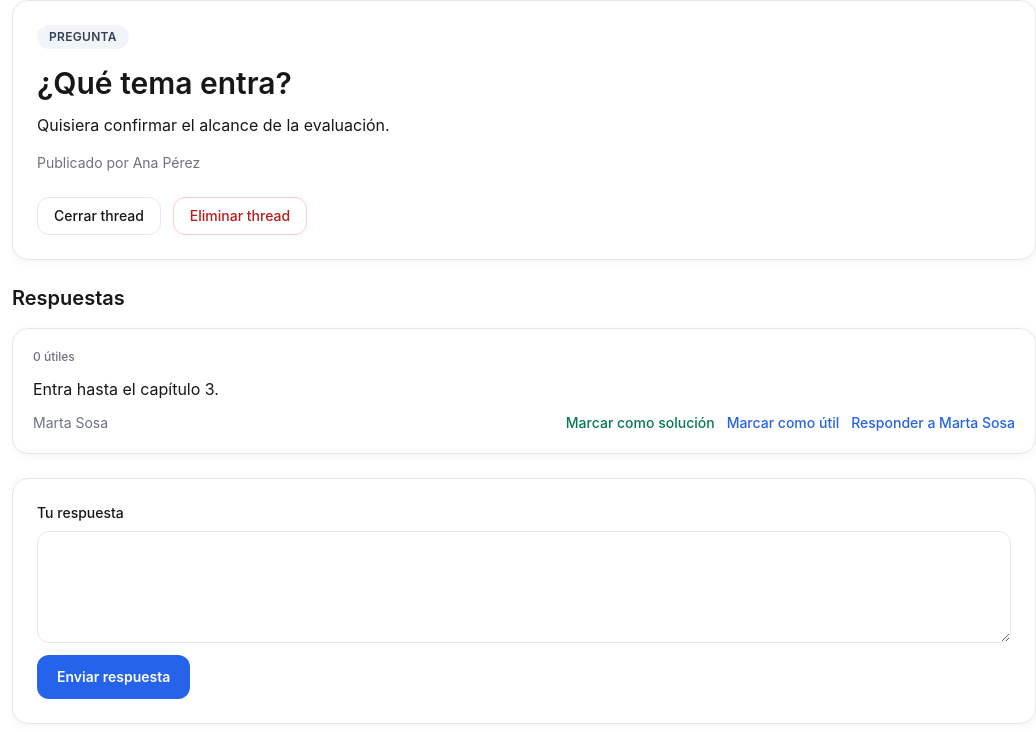
Test: ForoDetalle - interacciones › debería permitir marcar solución y útil, reflejando el estado actualizado sin recarga manual
This screenshot has width=1036, height=732.
Expected: the button "Marcar como útil" is shown, [727,413,839,433]
Step 1. Click the button "Marcar como solución" → (640, 423), box [566,413,715,433]
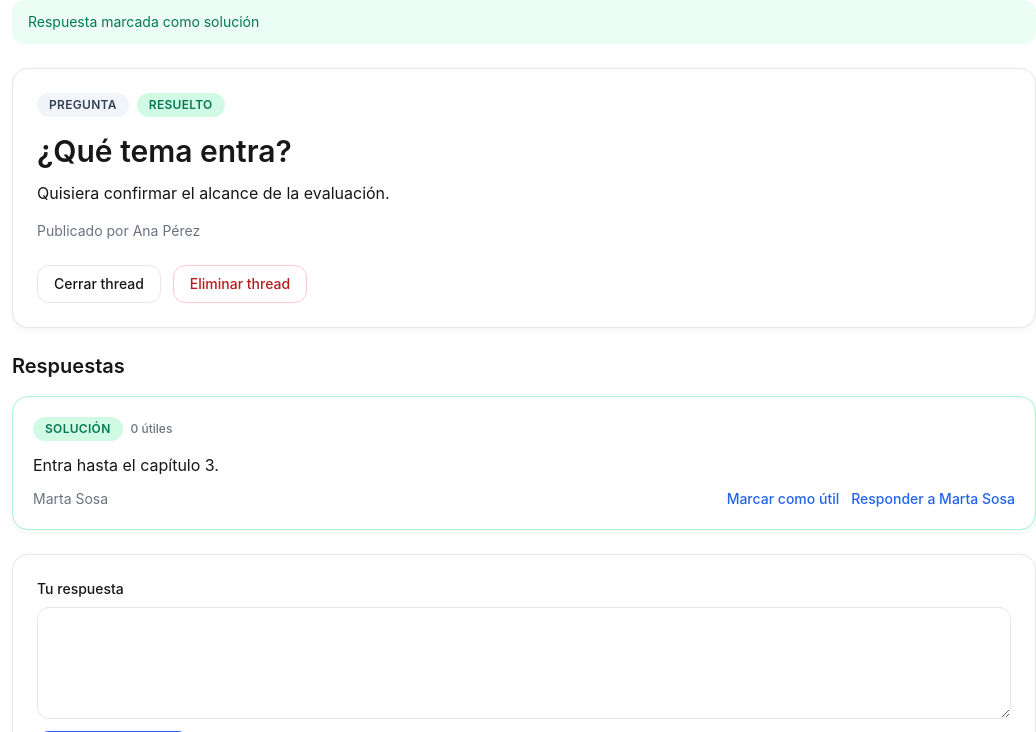
Expected: the text "Respuesta marcada como solución" is shown, [12,0,1035,44]
Expected: the text "Resuelto" is shown, [137,93,225,117]
Step 2. Click the button "Marcar como útil" → (783, 499), box [727,489,839,509]
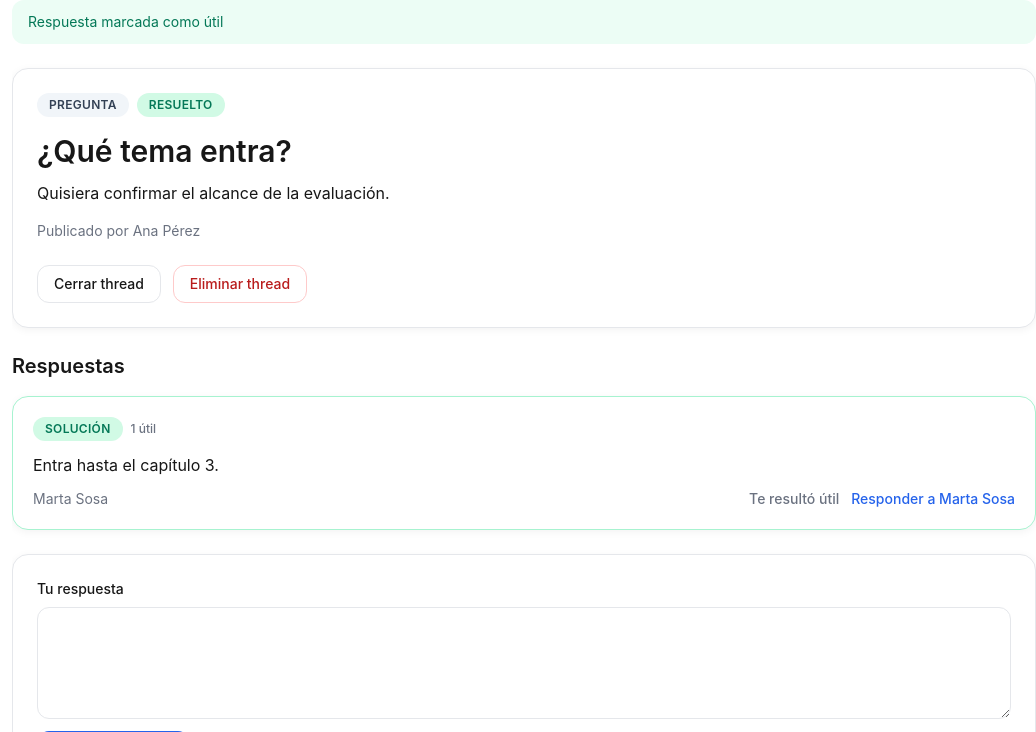
Expected: the text "1 útil" is shown, [130,421,156,437]
Expected: the button "Te resultó útil" is disabled, [749,489,839,509]
